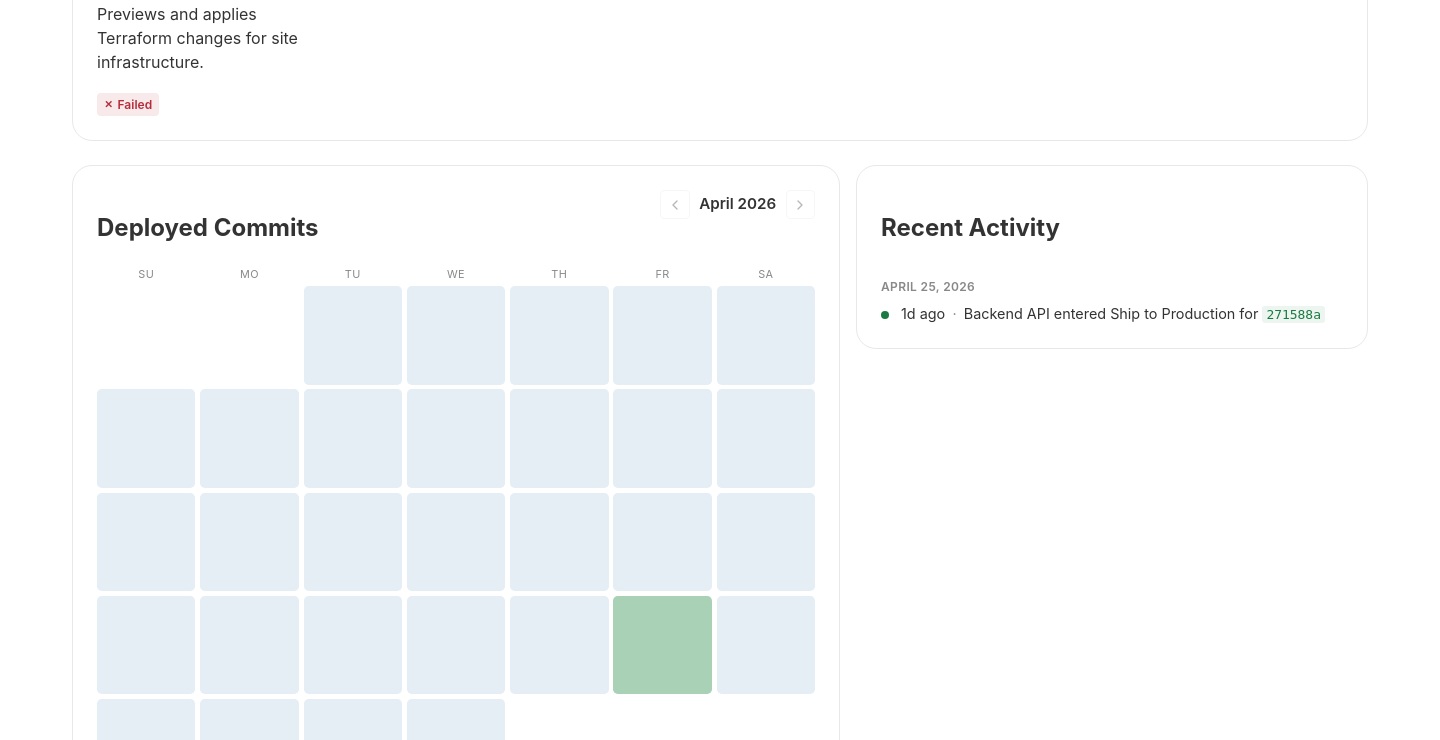
Test: Status › shows calendar tooltip on mouse enter
(page scrolled)
Expected: the heading "Deployed Commits" is shown, left=97, top=210, right=318, bottom=246
Hover over the 1st element with class "status-page__calendar-day" at (353, 335), box left=304, top=286, right=402, bottom=385
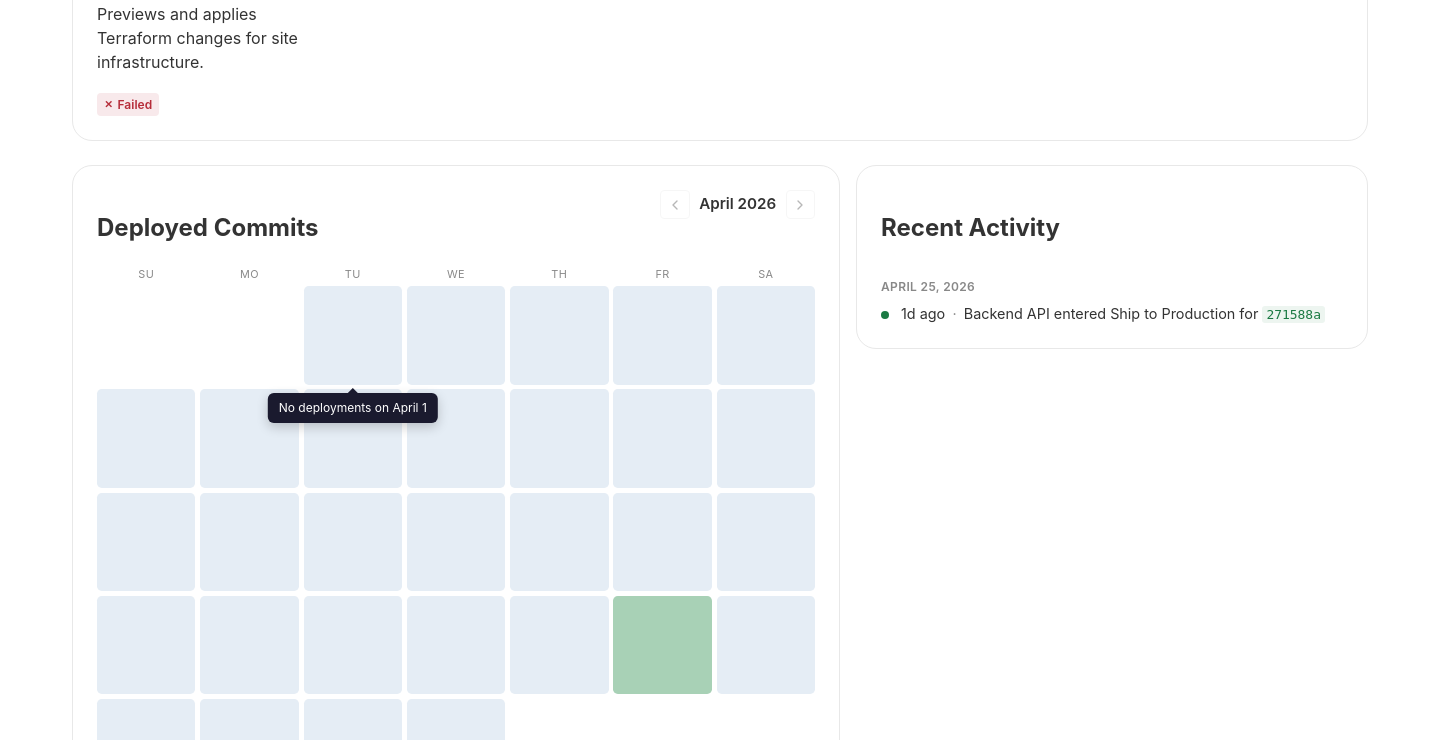
Expected: the tooltip with class "status-page__calendar-tooltip" is shown, left=268, top=392, right=438, bottom=423
Move the pointer off the element with class "status-page__calendar-day" showing "No deployments on April 1", box left=304, top=286, right=402, bottom=385
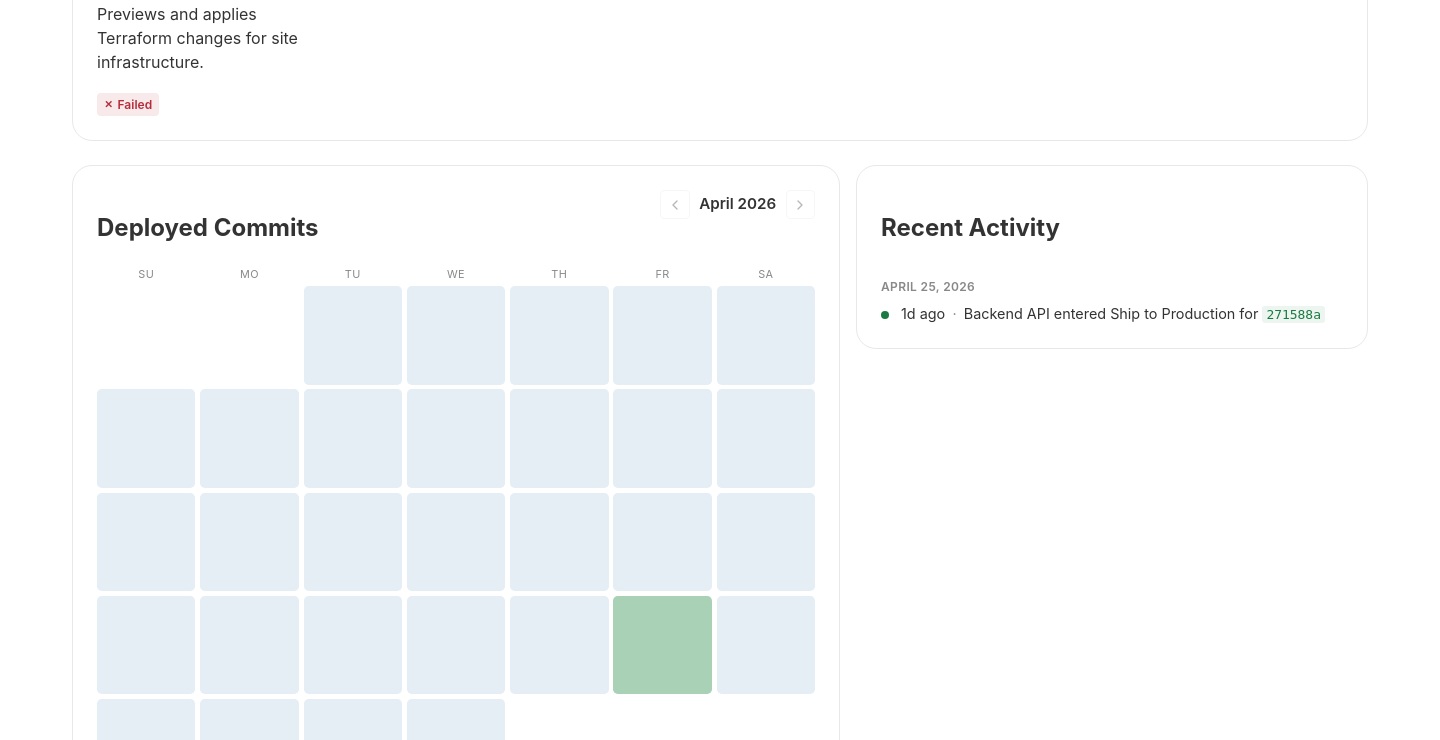
Expected: the tooltip with class "status-page__calendar-tooltip" is gone
